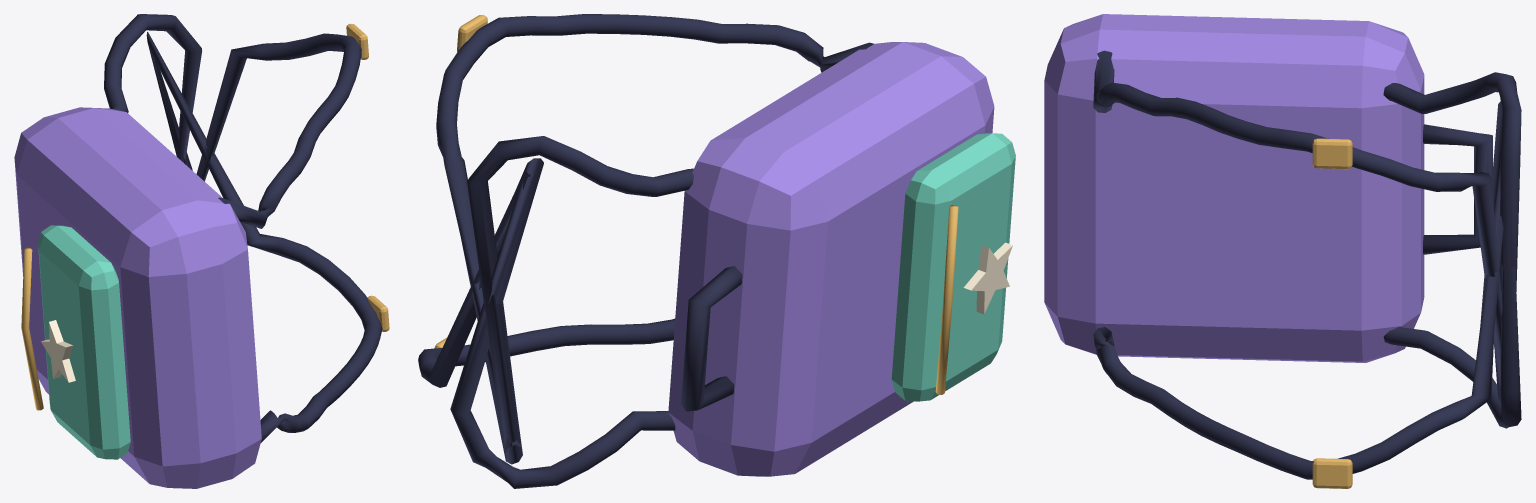
The model's file is starpack.glb.
3 views of the same model, side by side, from view 1: azimuth 30°, elevation 25°; view 2: azimuth 150°, elevation 25°; view 3: azimuth 270°, elevation 25° (orthographic). The views are drawn at different scales.
Parts seen in each view (by area): view 1: SHOP_starpack_optimized; view 2: SHOP_starpack_optimized; view 3: SHOP_starpack_optimized.
Boxes of the visible parts, bbox=[...] form: SHOP_starpack_optimized: bbox=[14, 14, 389, 488]; SHOP_starpack_optimized: bbox=[418, 14, 1015, 488]; SHOP_starpack_optimized: bbox=[1044, 14, 1521, 488].
Bounding box in the file's own units: 0.2338 × 0.1748 × 0.2147.
